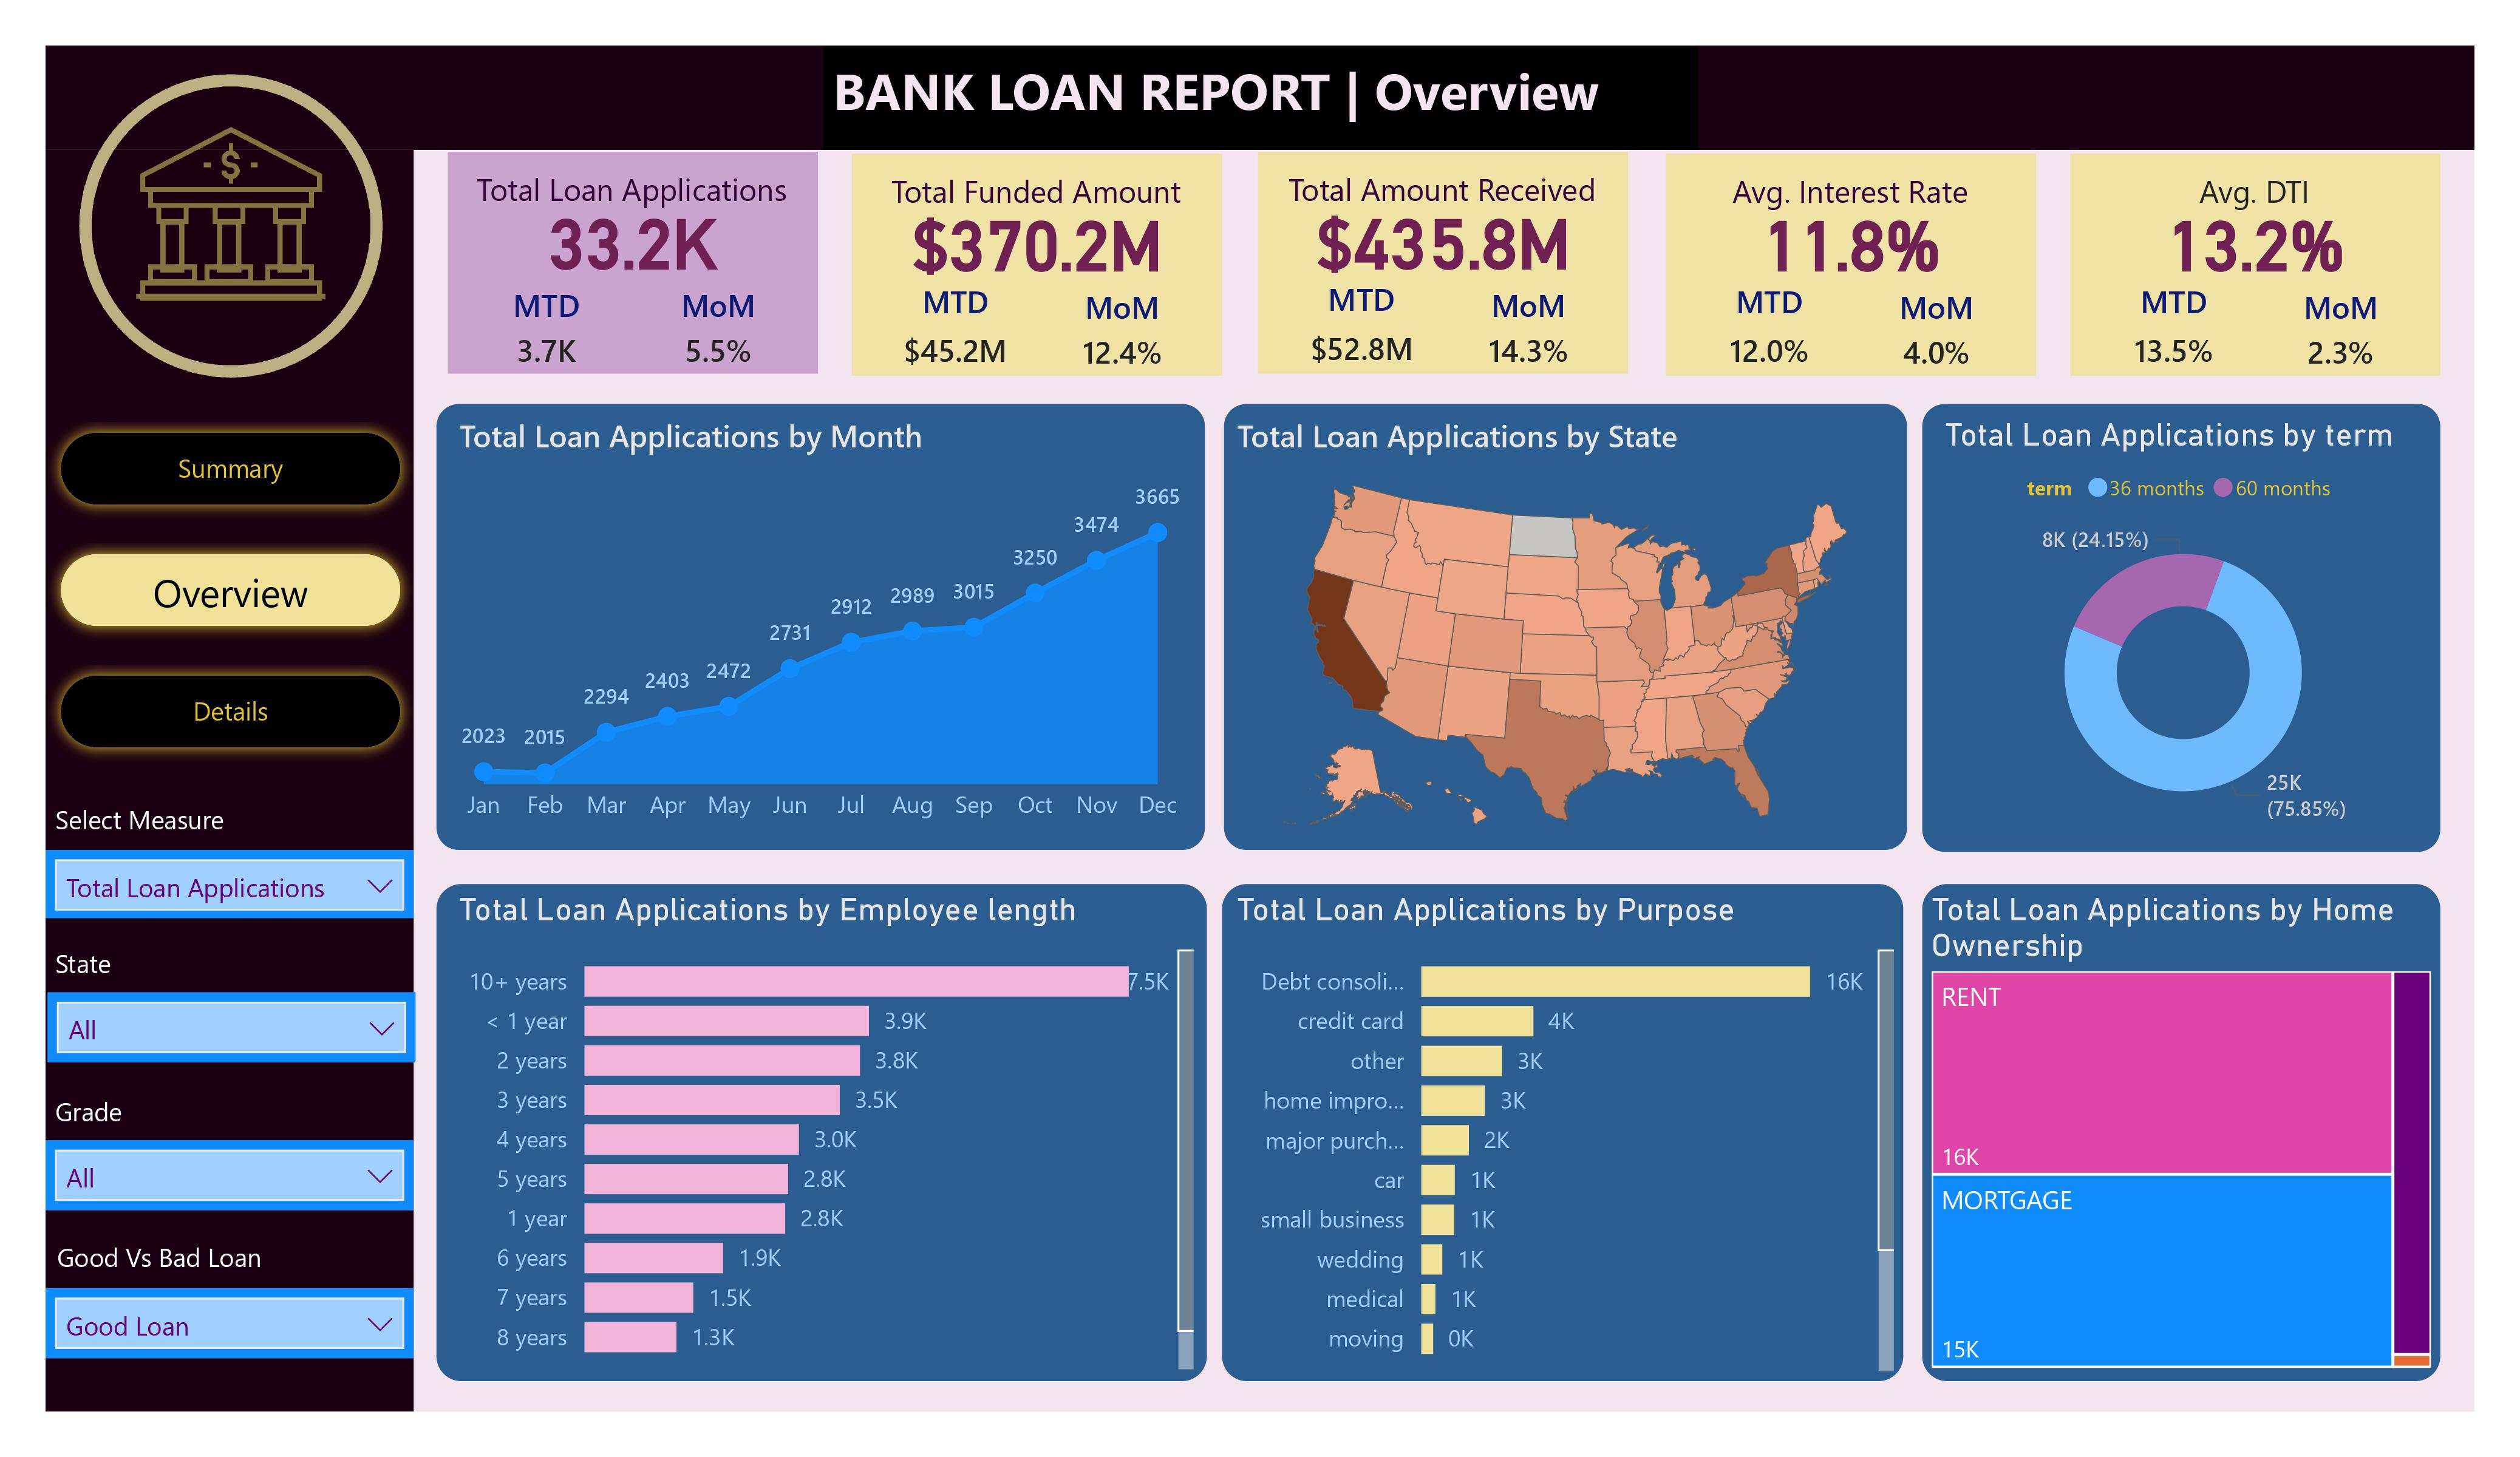

This screenshot's page, from the dashboard's own definition file:
{"tool":"powerbi","page":{"name":"Overview","canvas":[1280,720],"ordinal":1},"visuals":[{"type":"shape","box":[0,54.8,194,665.5],"z":0},{"type":"shape","box":[639.2,55.7,194.9,116.6],"z":0,"group":"g3"},{"type":"shape","box":[211.8,56.2,194.9,116.6],"z":0,"group":"g1"},{"type":"shape","box":[853.5,57.1,194.9,116.6],"z":0,"group":"g4"},{"type":"shape","box":[1066.6,57.1,194.9,116.6],"z":0,"group":"g5"},{"type":"shape","box":[424.9,57.3,194.9,116.6],"z":0,"group":"g2"},{"type":"shape","box":[0,0,1280.3,55],"z":1000},{"type":"card","fields":{"Values":["Bank_loan_Data.Total Amount Received"]},"box":[621.4,66.7,230.5,68.6],"z":1000,"group":"g3"},{"type":"card","fields":{"Values":["Bank_loan_Data.Total Loan Applications"]},"box":[194,67.2,230.5,68.6],"z":1000,"group":"g1"},{"type":"card","fields":{"Values":["Bank_loan_Data.Avg Interest Rate"]},"box":[835.7,68.1,230.5,68.6],"z":1000,"group":"g4"},{"type":"card","fields":{"Values":["Bank_loan_Data.Avg DTI"]},"box":[1048.8,68.1,230.5,68.6],"z":1000,"group":"g5"},{"type":"card","fields":{"Values":["Bank_loan_Data.Total Funded Amount"]},"box":[407.1,68.3,230.5,68.6],"z":1000,"group":"g2"},{"type":"textbox","box":[637.9,60,196.2,41.2],"z":2000,"group":"g3"},{"type":"textbox","box":[210.1,60.5,197.6,41.2],"z":2000,"group":"g1"},{"type":"textbox","box":[852.2,61.4,196.2,41.2],"z":2000,"group":"g4"},{"type":"textbox","box":[1065.3,61.4,196.2,41.2],"z":2000,"group":"g5"},{"type":"textbox","box":[423.6,61.6,196.2,41.2],"z":2000,"group":"g2"},{"type":"shape","box":[206,189.3,405,235],"z":2000},{"type":"textbox","box":[410.3,0,461.1,54.9],"z":3000},{"type":"card","title":"MTD","fields":{"Values":["Bank_loan_Data.MTD Total Amount Recieved"]},"box":[651.6,122.9,85.1,54.9],"z":3000,"group":"g3"},{"type":"card","title":"MTD","fields":{"Values":["Bank_loan_Data.MTD Avg Int Rate"]},"box":[865.9,124.3,85.1,54.9],"z":3000,"group":"g4"},{"type":"card","title":"MTD","fields":{"Values":["Bank_loan_Data.MTD Avg DTI"]},"box":[1079,124.3,85.1,54.9],"z":3000,"group":"g5"},{"type":"card","title":"MTD","fields":{"Values":["Bank_loan_Data.MTD Funded Amount"]},"box":[437.3,124.5,85.1,54.9],"z":3000,"group":"g2"},{"type":"card","title":"MTD","fields":{"Values":["Bank_loan_Data.MTD Loan Applications"]},"box":[232.4,126.2,63.1,50.8],"z":3000,"group":"g1"},{"type":"group","id":"g1","title":"Group 1","box":[194,56.2,231,121.4],"z":4000},{"type":"card","title":"MoM","fields":{"Values":["Bank_loan_Data.MOM Total Amount Recieved"]},"box":[750.4,125.7,63.1,50.8],"z":4000,"group":"g3"},{"type":"card","title":"MoM","fields":{"Values":["Bank_loan_Data.MOM Loan Application"]},"box":[323,126.2,63.1,50.8],"z":4000,"group":"g1"},{"type":"card","title":"MoM","fields":{"Values":["Bank_loan_Data.MOM Avg Interest Rate"]},"box":[964.7,127.1,63.1,50.8],"z":4000,"group":"g4"},{"type":"card","title":"MoM","fields":{"Values":["Bank_loan_Data.MOM Avg DTI"]},"box":[1177.8,127.1,63.1,50.8],"z":4000,"group":"g5"},{"type":"card","title":"MoM","fields":{"Values":["Bank_loan_Data.MOM Total Funded Amount"]},"box":[536.1,127.3,63.1,50.8],"z":4000,"group":"g2"},{"type":"group","id":"g2","title":"Group 1","box":[407.1,57.3,231,122.6],"z":5000},{"type":"group","id":"g3","title":"Group 1","box":[621.4,55.7,231,122.6],"z":6000},{"type":"group","id":"g4","title":"Group 1","box":[835.7,57.1,231,121.4],"z":7000},{"type":"group","id":"g5","title":"Group 1","box":[1048.8,57.1,231,121.4],"z":8000},{"type":"slicer","fields":{"Values":["Bank_loan_Data.address_state"]},"box":[1.2,498.8,194,36.9],"z":9000},{"type":"textbox","box":[0,470.2,194,28.6],"z":10000},{"type":"slicer","fields":{"Values":["Bank_loan_Data.Good Vs Bad Loan"]},"box":[0,654.7,194.2,37.2],"z":11000},{"type":"slicer","fields":{"Values":["Bank_loan_Data.grade"]},"box":[0,576.7,194.2,37.2],"z":12000},{"type":"textbox","box":[0,547.6,194,28.6],"z":13000},{"type":"textbox","box":[1.2,625,194,29.8],"z":14000},{"type":"areaChart","fields":{"Y":["Bank_loan_Data.Total Loan Applications"],"Category":["Date Table.Month"]},"box":[213.1,195.2,390.5,222.6],"z":15000},{"type":"slicer","fields":{"Values":["Parameter.Parameter"]},"box":[0,423.8,194,35.7],"z":16000},{"type":"textbox","box":[0,394,194,29.8],"z":17000},{"type":"shape","box":[621.4,189.3,359.5,234.5],"z":18000},{"type":"shapeMap","fields":{"Category":["Bank_loan_Data.address_state"],"Value":["Bank_loan_Data.Total Loan Applications"]},"box":[622.6,195.2,356,230],"z":18001},{"type":"shape","box":[989.3,189.3,272.6,235.7],"z":18002},{"type":"donutChart","fields":{"Category":["Bank_loan_Data.term"],"Y":["Bank_loan_Data.Total Loan Applications"]},"box":[996.4,195.2,261,225],"z":18003},{"type":"shape","box":[206,441.7,406,261.9],"z":18004},{"type":"barChart","fields":{"Y":["Bank_loan_Data.Total Loan Applications"],"Category":["Bank_loan_Data.emp_length"]},"box":[213.1,445.2,397,258],"z":18005},{"type":"shape","box":[620.2,441.7,358.3,261.9],"z":18006},{"type":"barChart","fields":{"Category":["Bank_loan_Data.purpose"],"Y":["Bank_loan_Data.Total Loan Applications"]},"box":[622.6,445.2,356,258.3],"z":18007},{"type":"shape","box":[989.3,441.7,272.6,261.9],"z":18008},{"type":"treemap","fields":{"Group":["Bank_loan_Data.home_ownership"],"Values":["Bank_loan_Data.Total Loan Applications"]},"box":[989.3,445.2,272.6,257.1],"z":18009},{"type":"image","box":[0,0,194,196.4],"z":18010},{"type":"pageNavigator","box":[0,196.4,195.2,182.1],"z":18011}]}

Visuals, with their boxes on the page's 1280x720 design canvas (x1, y1, x2, y2). These are canvas units, not pixel positions in the 2520x1457 screenshot, which may show the page scaled, cropped or inside an application window:
shape: left=0, top=55, right=194, bottom=720
shape: left=639, top=56, right=834, bottom=172
shape: left=212, top=56, right=407, bottom=173
shape: left=854, top=57, right=1048, bottom=174
shape: left=1067, top=57, right=1262, bottom=174
shape: left=425, top=57, right=620, bottom=174
shape: left=0, top=0, right=1280, bottom=55
card - Bank_loan_Data.Total Amount Received: left=621, top=67, right=852, bottom=135
card - Bank_loan_Data.Total Loan Applications: left=194, top=67, right=424, bottom=136
card - Bank_loan_Data.Avg Interest Rate: left=836, top=68, right=1066, bottom=137
card - Bank_loan_Data.Avg DTI: left=1049, top=68, right=1279, bottom=137
card - Bank_loan_Data.Total Funded Amount: left=407, top=68, right=638, bottom=137
textbox: left=638, top=60, right=834, bottom=101
textbox: left=210, top=60, right=408, bottom=102
textbox: left=852, top=61, right=1048, bottom=103
textbox: left=1065, top=61, right=1262, bottom=103
textbox: left=424, top=62, right=620, bottom=103
shape: left=206, top=189, right=611, bottom=424
textbox: left=410, top=0, right=871, bottom=55
"MTD" card: left=652, top=123, right=737, bottom=178
"MTD" card: left=866, top=124, right=951, bottom=179
"MTD" card: left=1079, top=124, right=1164, bottom=179
"MTD" card: left=437, top=124, right=522, bottom=179
"MTD" card: left=232, top=126, right=296, bottom=177
"Group 1" group: left=194, top=56, right=425, bottom=178
"MoM" card: left=750, top=126, right=814, bottom=176
"MoM" card: left=323, top=126, right=386, bottom=177
"MoM" card: left=965, top=127, right=1028, bottom=178
"MoM" card: left=1178, top=127, right=1241, bottom=178
"MoM" card: left=536, top=127, right=599, bottom=178
"Group 1" group: left=407, top=57, right=638, bottom=180
"Group 1" group: left=621, top=56, right=852, bottom=178
"Group 1" group: left=836, top=57, right=1067, bottom=178
"Group 1" group: left=1049, top=57, right=1280, bottom=178
slicer - Bank_loan_Data.address_state: left=1, top=499, right=195, bottom=536
textbox: left=0, top=470, right=194, bottom=499
slicer - Bank_loan_Data.Good Vs Bad Loan: left=0, top=655, right=194, bottom=692
slicer - Bank_loan_Data.grade: left=0, top=577, right=194, bottom=614
textbox: left=0, top=548, right=194, bottom=576
textbox: left=1, top=625, right=195, bottom=655
areaChart - Bank_loan_Data.Total Loan Applications x Date Table.Month: left=213, top=195, right=604, bottom=418
slicer - Parameter.Parameter: left=0, top=424, right=194, bottom=460
textbox: left=0, top=394, right=194, bottom=424
shape: left=621, top=189, right=981, bottom=424
shapeMap - Bank_loan_Data.address_state x Bank_loan_Data.Total Loan Applications: left=623, top=195, right=979, bottom=425
shape: left=989, top=189, right=1262, bottom=425
donutChart - Bank_loan_Data.term x Bank_loan_Data.Total Loan Applications: left=996, top=195, right=1257, bottom=420
shape: left=206, top=442, right=612, bottom=704
barChart - Bank_loan_Data.Total Loan Applications x Bank_loan_Data.emp_length: left=213, top=445, right=610, bottom=703
shape: left=620, top=442, right=978, bottom=704
barChart - Bank_loan_Data.purpose x Bank_loan_Data.Total Loan Applications: left=623, top=445, right=979, bottom=704
shape: left=989, top=442, right=1262, bottom=704
treemap - Bank_loan_Data.home_ownership x Bank_loan_Data.Total Loan Applications: left=989, top=445, right=1262, bottom=702
image: left=0, top=0, right=194, bottom=196
pageNavigator: left=0, top=196, right=195, bottom=378
